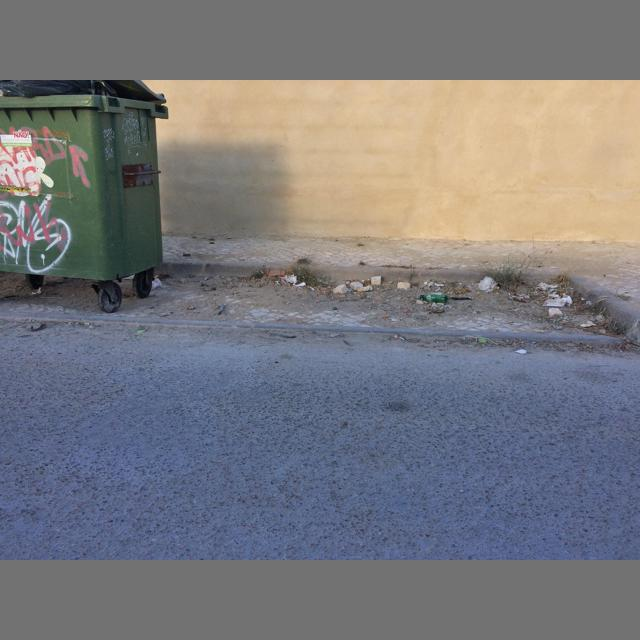litter: (0, 80, 92, 98), (420, 293, 448, 303), (542, 299, 565, 308), (536, 282, 559, 290), (151, 278, 162, 291), (285, 274, 297, 283), (32, 287, 42, 295), (581, 321, 596, 326), (293, 282, 306, 287), (515, 349, 526, 354), (466, 285, 472, 292), (478, 338, 486, 342), (586, 301, 594, 305), (434, 283, 444, 286), (137, 330, 145, 333), (587, 345, 593, 349), (394, 335, 400, 339), (309, 287, 315, 291), (511, 308, 517, 311), (84, 322, 90, 325), (399, 306, 404, 309), (333, 306, 338, 309)
